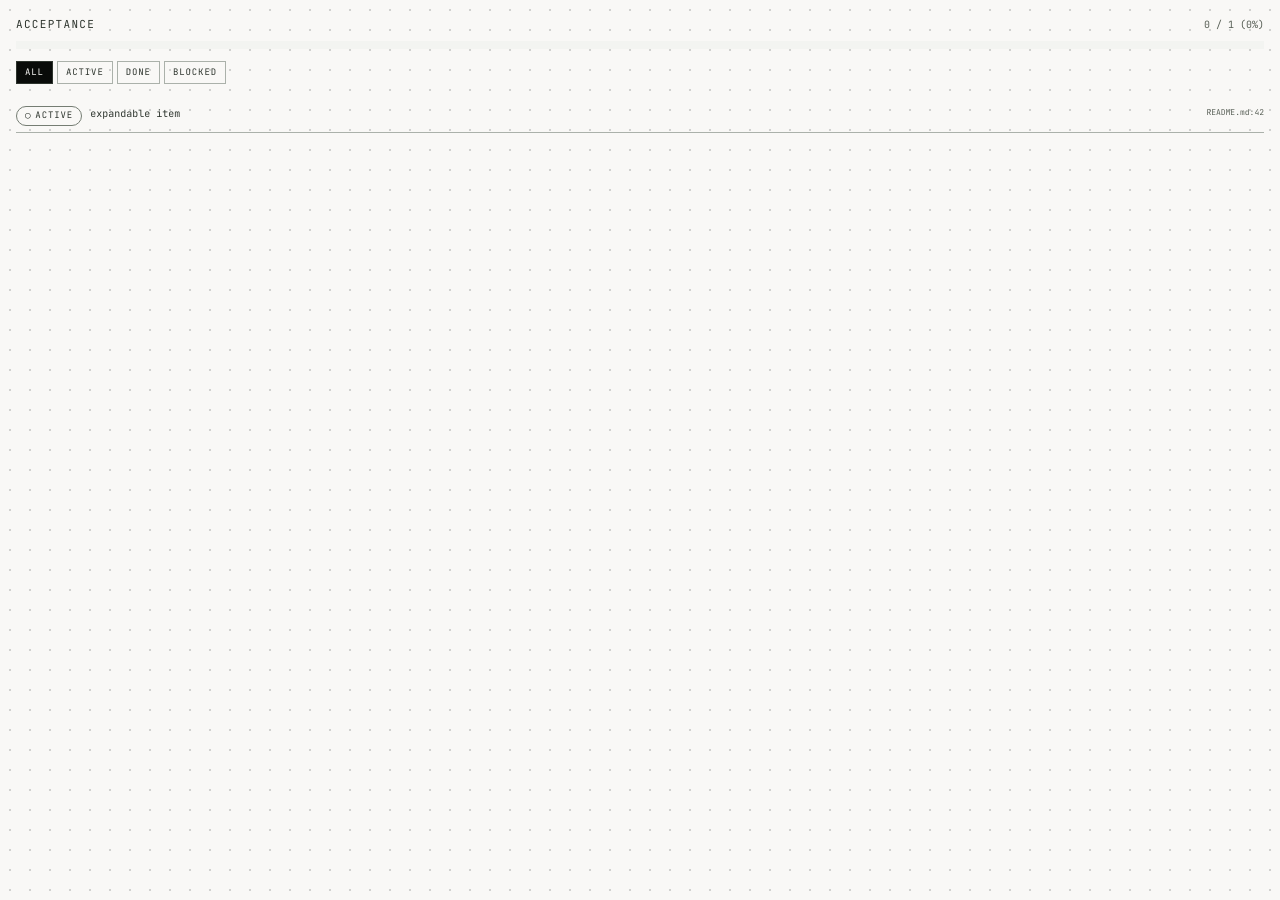
UI Enhancement Pack v0 — AcceptanceTab › clicking a row expands the detail panel + clicking again collapses it
The width and height of the screenshot is (1280, 900).
Click the button with test id "acceptance-item-0-toggle". click: click(49, 116)
box: top-left (16, 100), bottom-right (1264, 132)
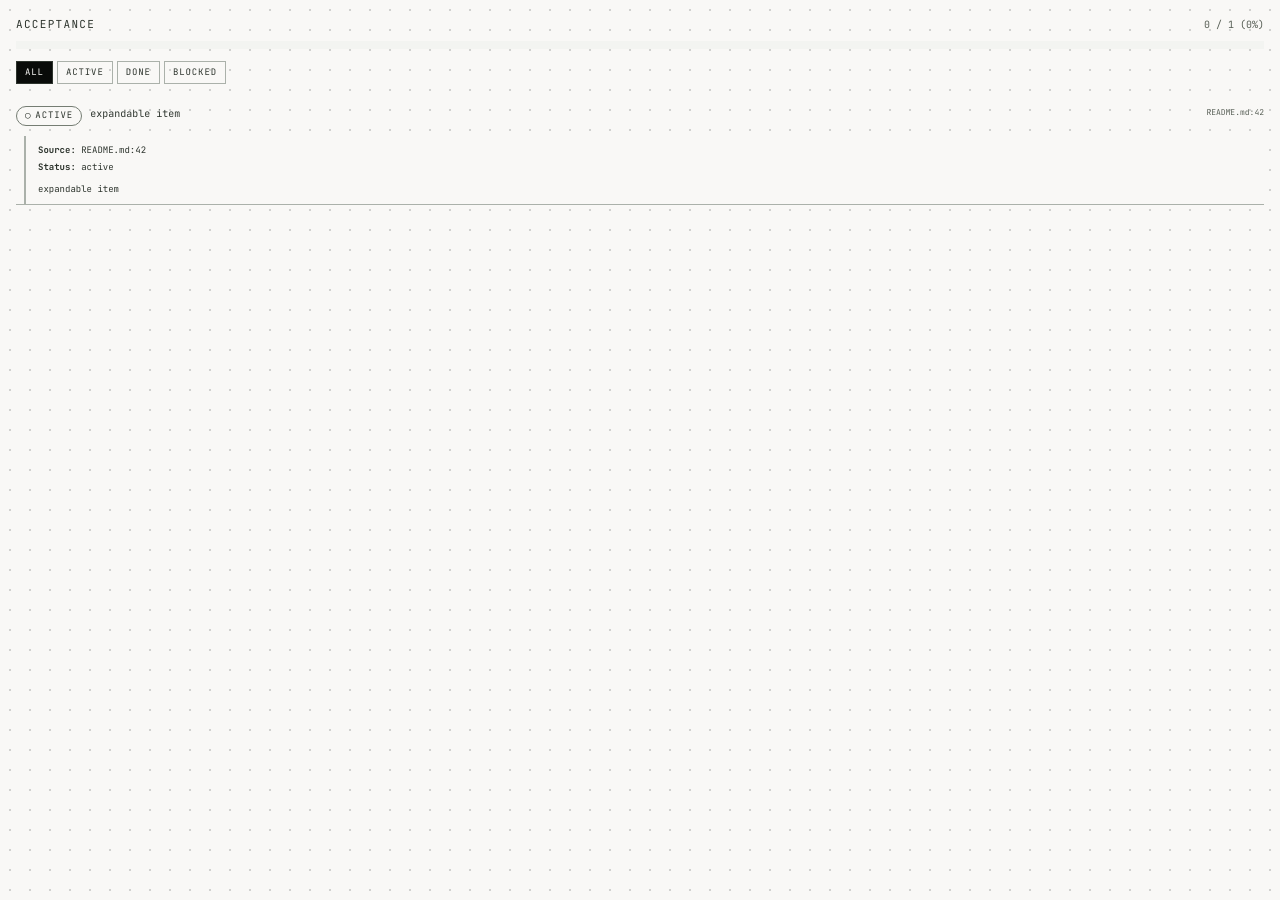
Result: the element with test id "acceptance-item-0-detail" is shown at top-left (24, 136), bottom-right (1264, 204)
Result: the text with test id "acceptance-item-0-citation" reads "README.md:42" at top-left (81, 144), bottom-right (146, 156)
Click the button with test id "acceptance-item-0-toggle". click: click(49, 116)
box: top-left (16, 100), bottom-right (1264, 132)
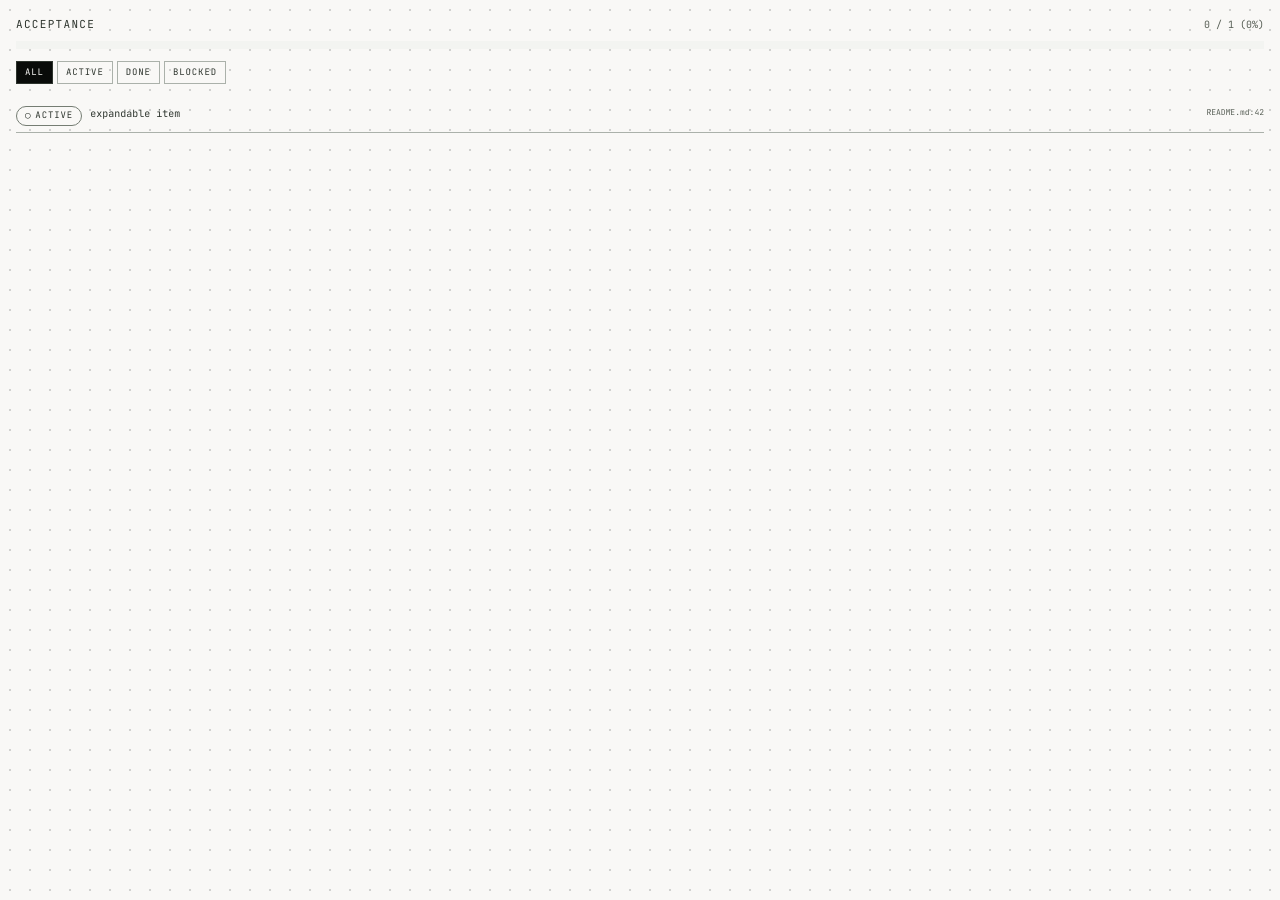
Result: the element with test id "acceptance-item-0-detail" is gone
